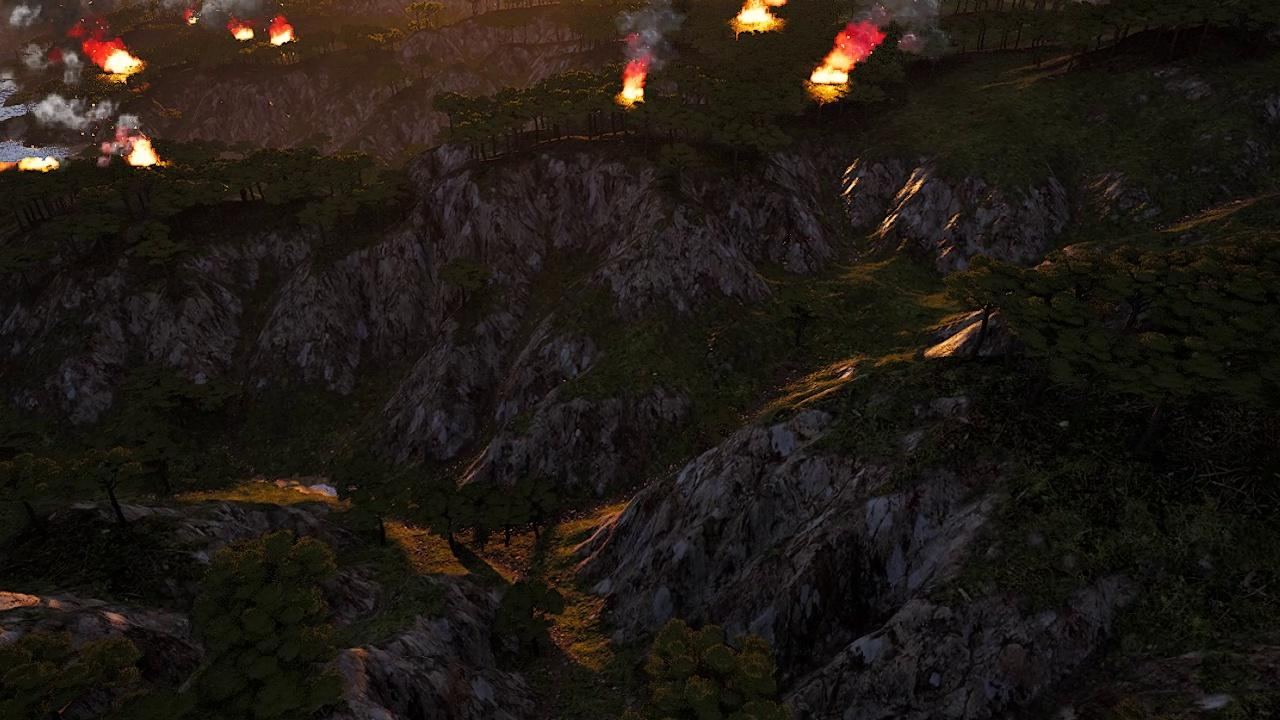fire: (812, 49, 860, 92), (737, 0, 786, 31), (105, 50, 146, 78), (619, 64, 648, 103), (130, 138, 162, 169), (3, 157, 56, 171), (270, 25, 294, 46), (229, 27, 251, 42)
smoke: (0, 0, 104, 107), (837, 0, 951, 58), (614, 0, 680, 69), (33, 95, 138, 137), (152, 0, 273, 27), (6, 1, 41, 28)
